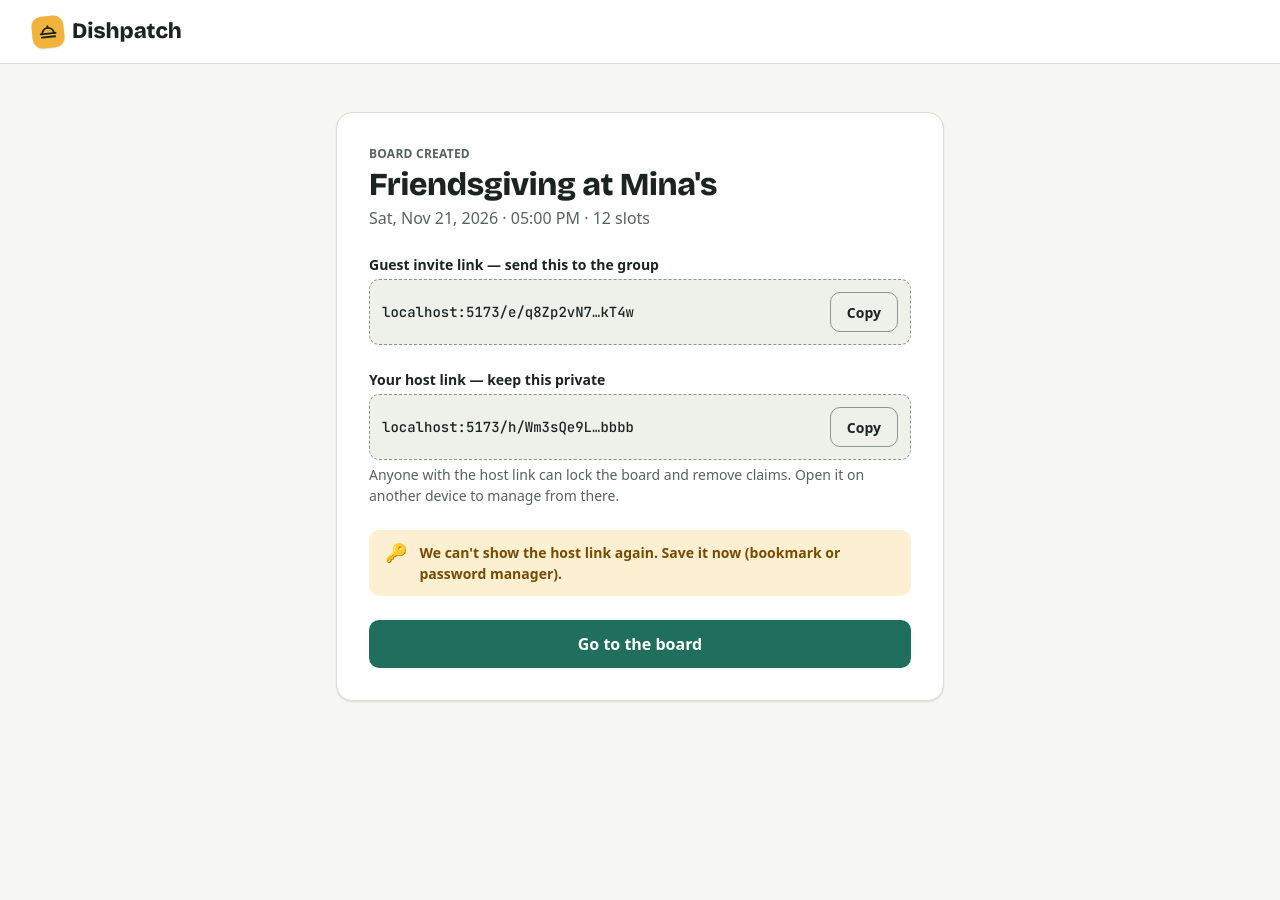
Test: ShareScreen › falls back to selecting the text when clipboard is denied
Click the button with aria-label "Copy host link".
click(864, 427)  # box [830,407,898,447]
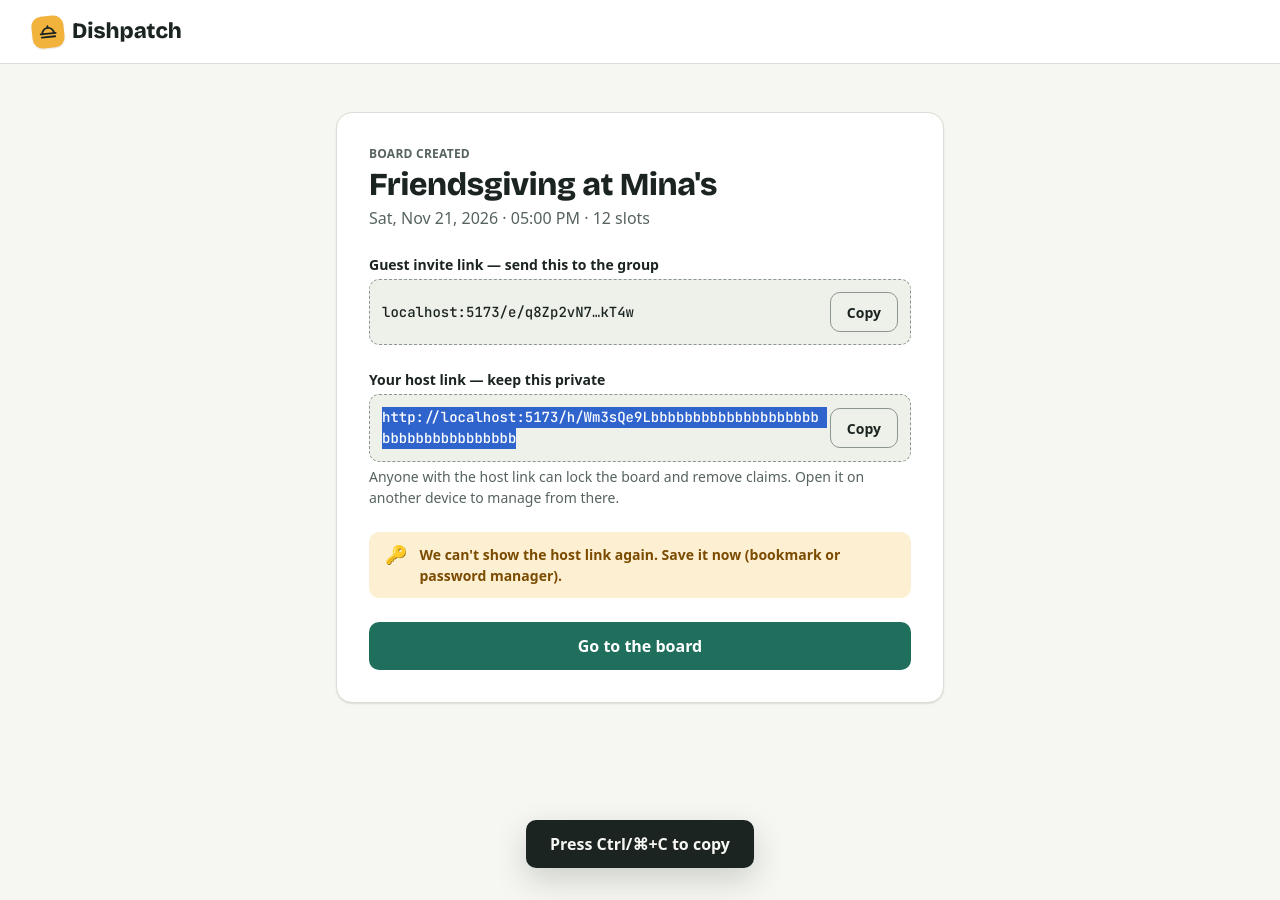
Check: the message reads "Press Ctrl/⌘+C to copy", box [550,833,730,855]
